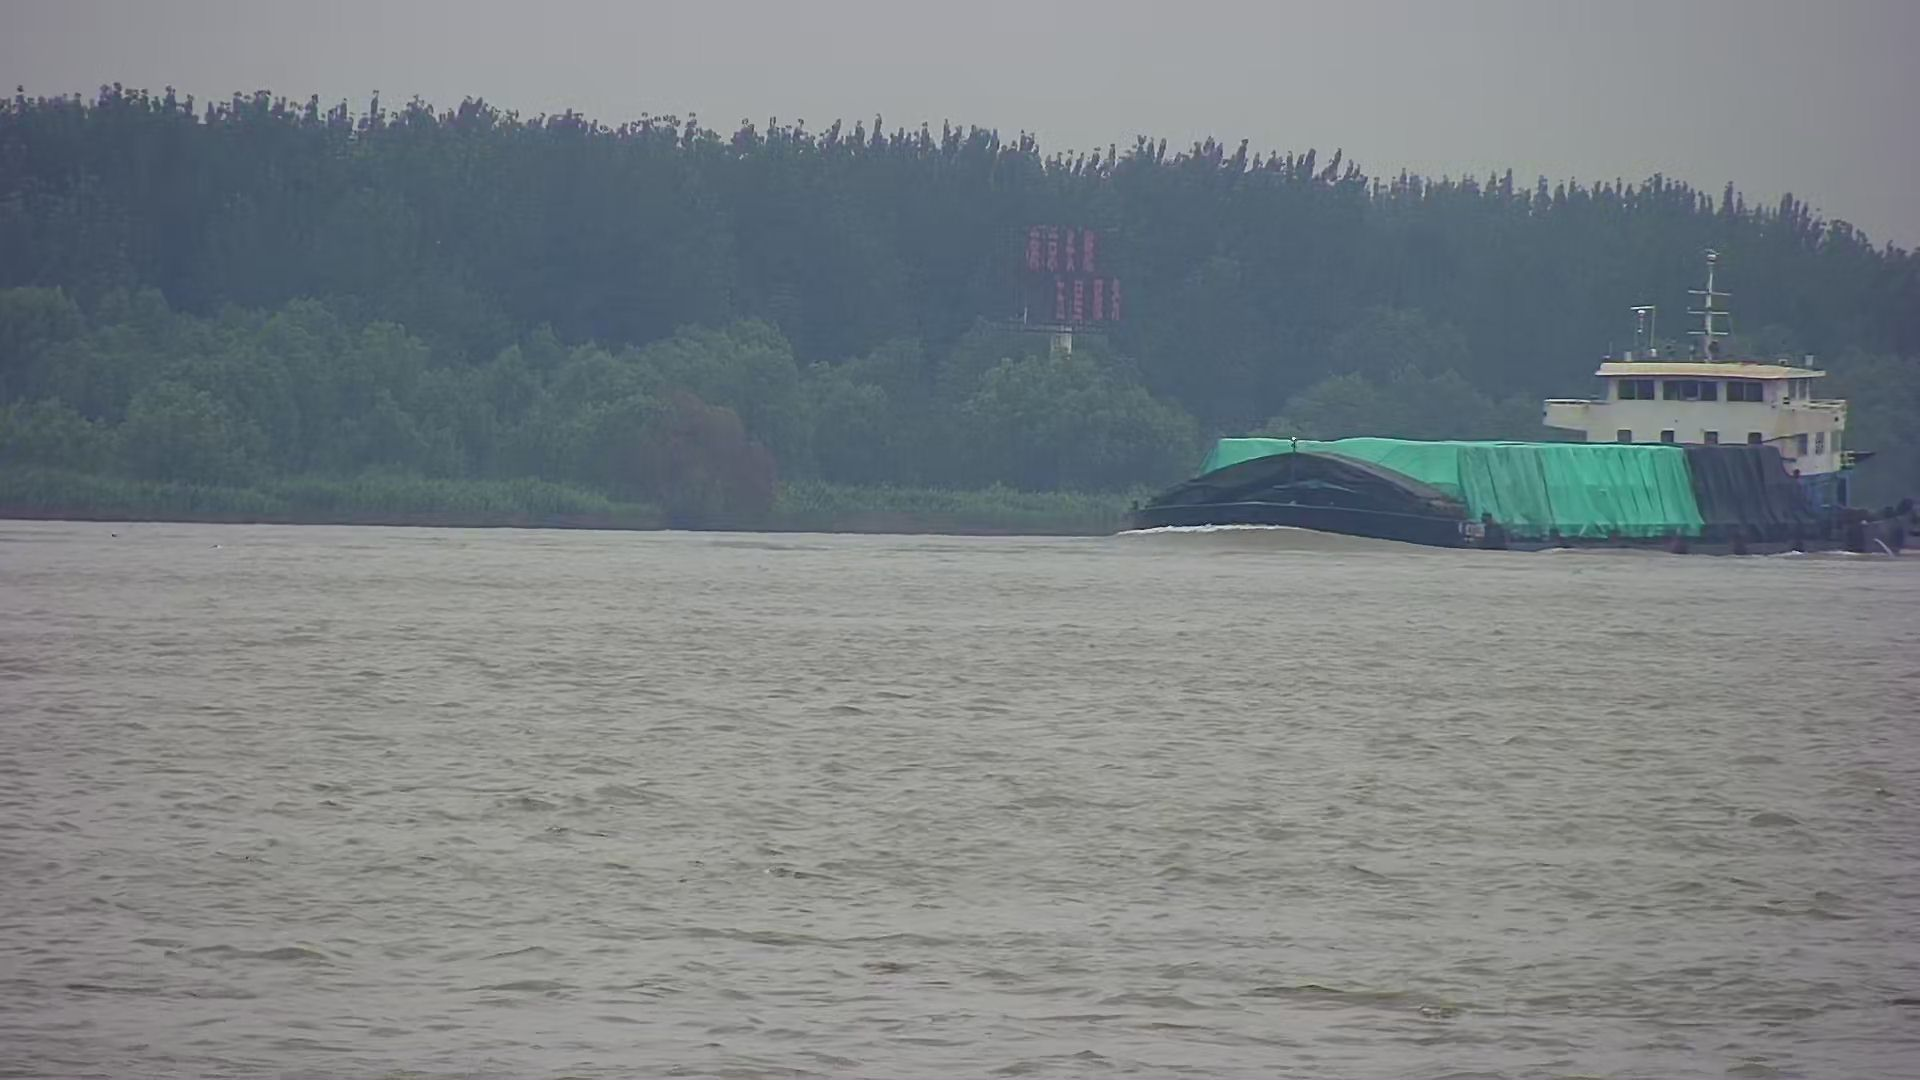ship: (1098, 301, 1920, 574)
